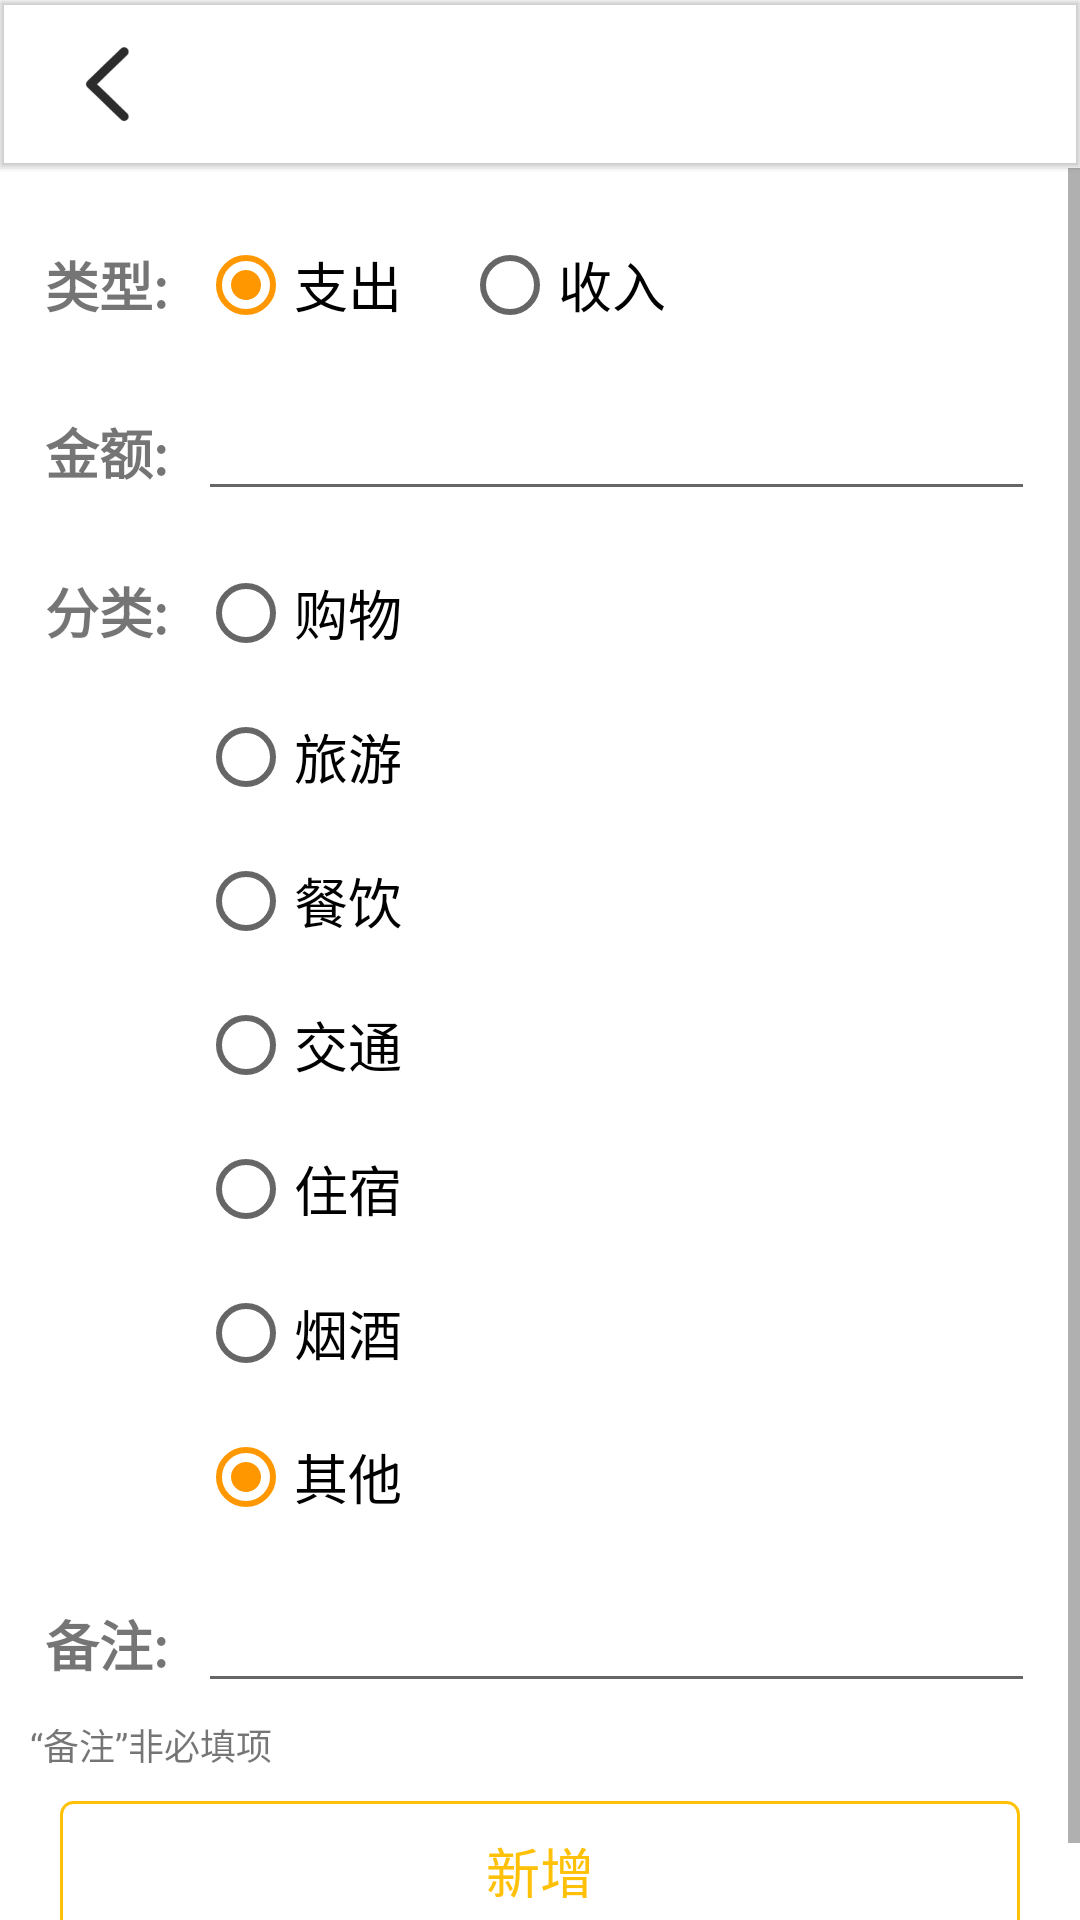

Named icons in this screenshot (1080x1920) and their bounding boxes, (x1, y1, x2, y2):
back: (86, 47, 129, 121)
